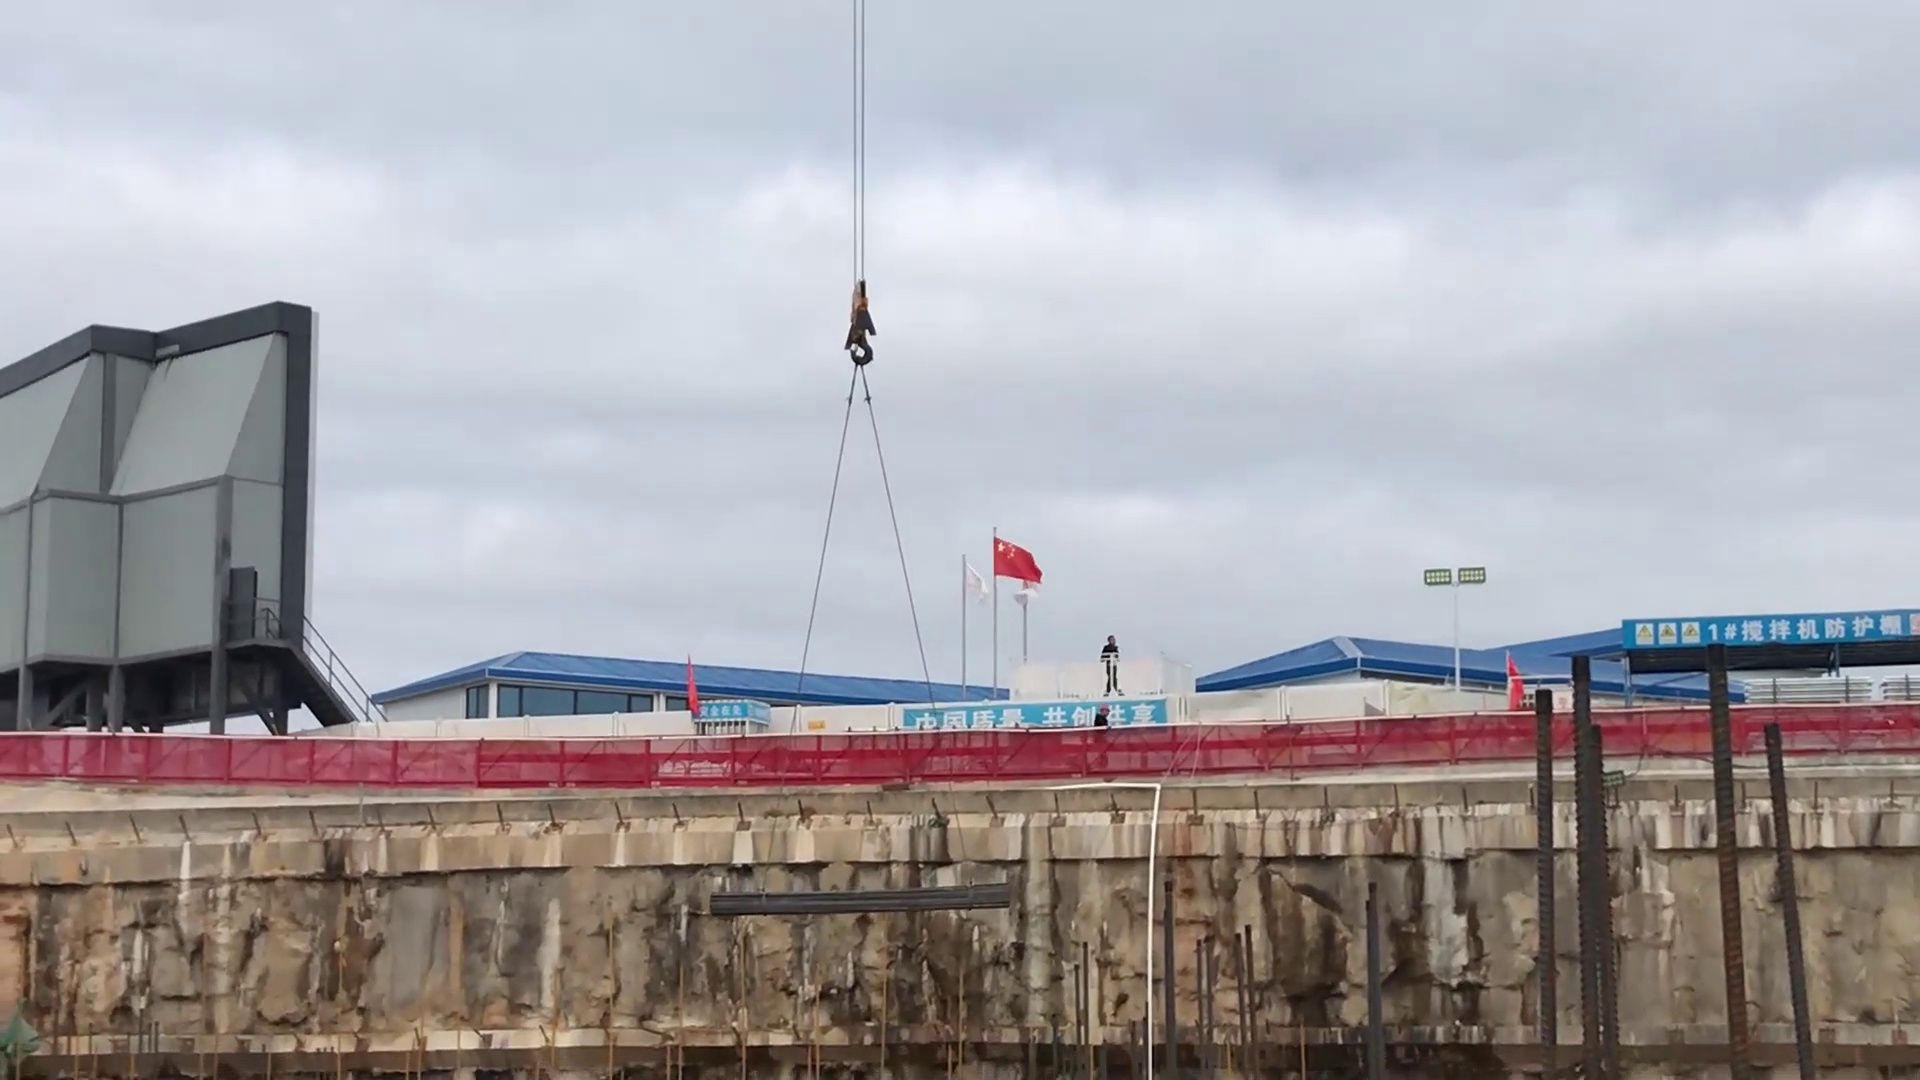fence: (1, 695, 1920, 796)
hook: (836, 266, 886, 369)
rebar: (698, 874, 1029, 934)
slogan: (899, 694, 1172, 729)
